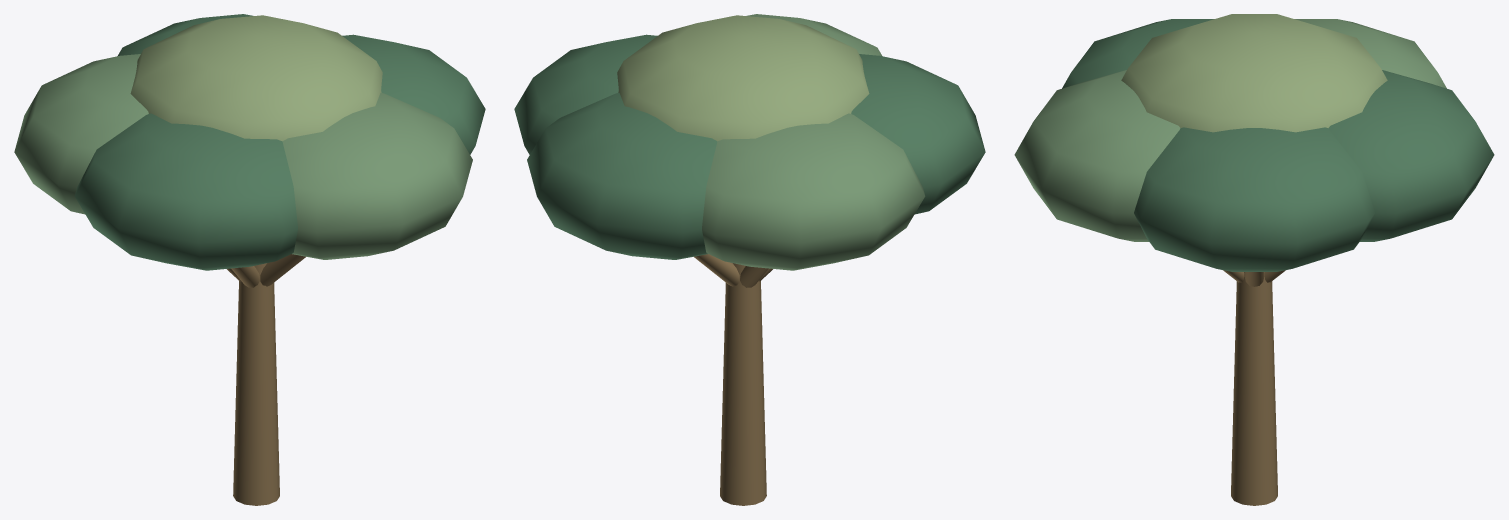
File: umbrella_tree.glb
The picture shows the model from 3 angles, left to right: view 1: azimuth 30°, elevation 25°; view 2: azimuth 150°, elevation 25°; view 3: azimuth 270°, elevation 25°; orthographic projection.
Visible parts, largest first — view 1: _MeshInstance3D_52, _MeshInstance3D_57, _MeshInstance3D_50, _MeshInstance3D_54, _MeshInstance3D_46, _MeshInstance3D_48, _MeshInstance3D_56, _MeshInstance3D_49; view 2: _MeshInstance3D_54, _MeshInstance3D_57, _MeshInstance3D_56, _MeshInstance3D_52, _MeshInstance3D_46, _MeshInstance3D_48, _MeshInstance3D_50, _MeshInstance3D_55; view 3: _MeshInstance3D_48, _MeshInstance3D_57, _MeshInstance3D_50, _MeshInstance3D_56, _MeshInstance3D_46, _MeshInstance3D_52, _MeshInstance3D_54.
Boxes of the visible parts, x1,y1,x2,y2 form: _MeshInstance3D_52: (74, 113, 297, 270); _MeshInstance3D_57: (130, 15, 382, 141); _MeshInstance3D_50: (282, 93, 472, 259); _MeshInstance3D_54: (14, 54, 148, 214); _MeshInstance3D_46: (233, 263, 279, 505); _MeshInstance3D_48: (342, 34, 485, 154); _MeshInstance3D_56: (117, 14, 252, 56); _MeshInstance3D_49: (260, 254, 305, 286); _MeshInstance3D_54: (702, 113, 925, 270); _MeshInstance3D_57: (617, 15, 869, 141); _MeshInstance3D_56: (527, 93, 717, 259); _MeshInstance3D_52: (851, 54, 985, 214); _MeshInstance3D_46: (720, 263, 766, 505); _MeshInstance3D_48: (514, 34, 657, 154); _MeshInstance3D_50: (747, 14, 882, 56); _MeshInstance3D_55: (694, 254, 739, 286); _MeshInstance3D_48: (1134, 127, 1374, 271); _MeshInstance3D_57: (1121, 14, 1387, 132); _MeshInstance3D_50: (1014, 70, 1180, 241); _MeshInstance3D_56: (1328, 70, 1494, 241); _MeshInstance3D_46: (1231, 272, 1277, 505); _MeshInstance3D_52: (1062, 19, 1214, 88); _MeshInstance3D_54: (1294, 19, 1446, 88).
Size of the model in its own units: 3.13 by 3.46 by 3.25.
